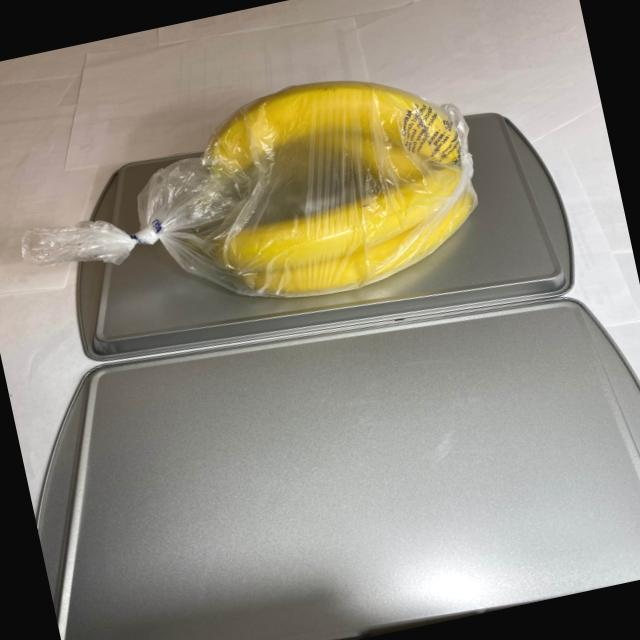banana: (148, 41, 526, 327)
